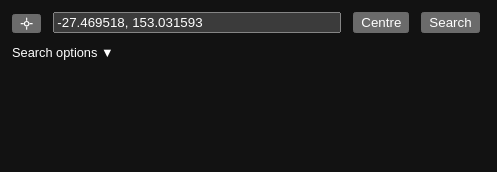
Test: SearchForm › uses default values when nothing is saved
Click the button "Search options ▼" at point(63, 52), box x1=12 y1=45 x2=114 y2=60
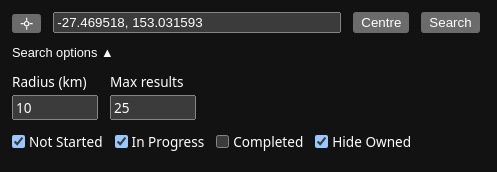
Result: the number field labelled "Radius (km)" holds "10" at x1=12 y1=95 x2=98 y2=120
Result: the number field labelled "Max results" holds "25" at x1=110 y1=95 x2=196 y2=120
